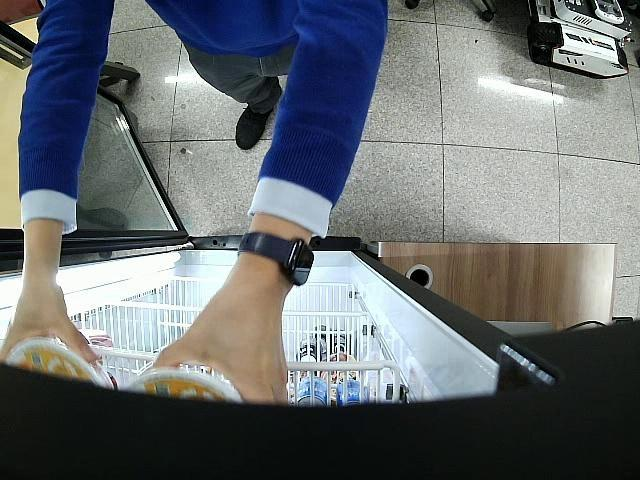09_yukGaeJang: (4, 338, 116, 388), (127, 366, 240, 404)
